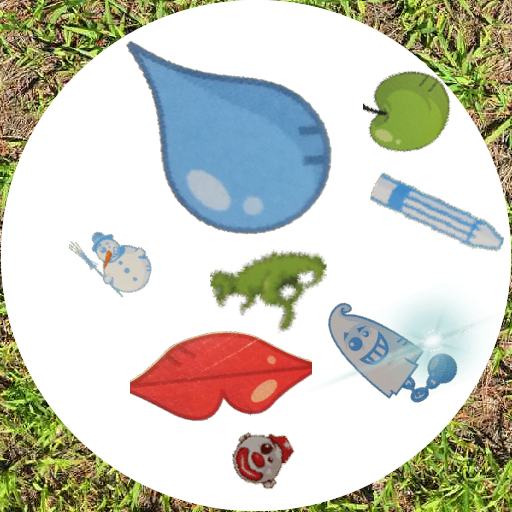apple_icon: (363, 69, 457, 163)
clown_icon: (232, 428, 295, 491)
dino_icon: (210, 217, 327, 334)
ghost_icon: (314, 279, 460, 425)
lips_icon: (130, 275, 312, 457)
pen_icon: (368, 146, 508, 286)
raindrop_icon: (118, 24, 343, 249)
snowman_icon: (66, 220, 152, 306)
